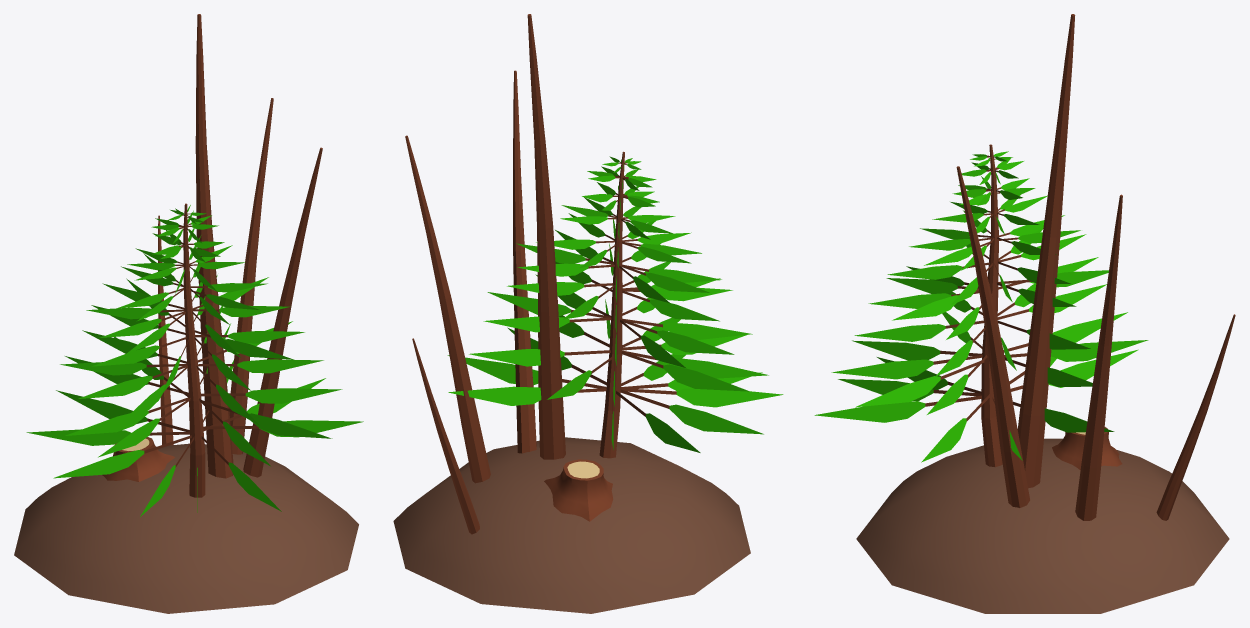
File: ForestNode.fbx
3 renders of one model, left to right at view 1: azimuth 30°, elevation 25°; view 2: azimuth 150°, elevation 25°; view 3: azimuth 270°, elevation 25°, orthographic. The views are drawn at different scales.
Parts seen in each view (by area): view 1: ForestNode; view 2: ForestNode; view 3: ForestNode.
Boxes of the visible parts, <box> form: ForestNode: <box>14,14,363,613</box>; ForestNode: <box>393,14,783,613</box>; ForestNode: <box>814,14,1235,613</box>.
Bounding box in the file's own units: 1717 × 2731 × 1942.
